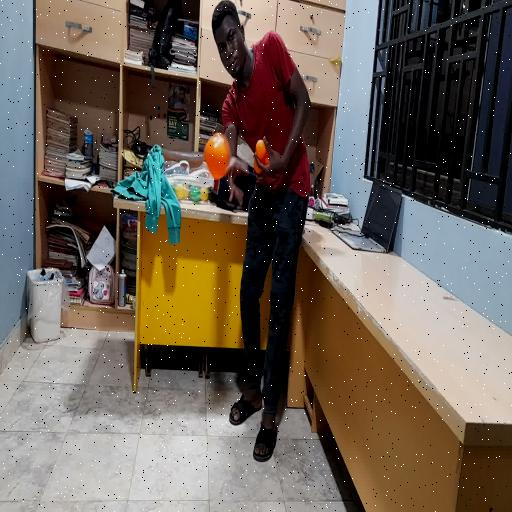plastic-ball: (203, 129, 233, 183)
